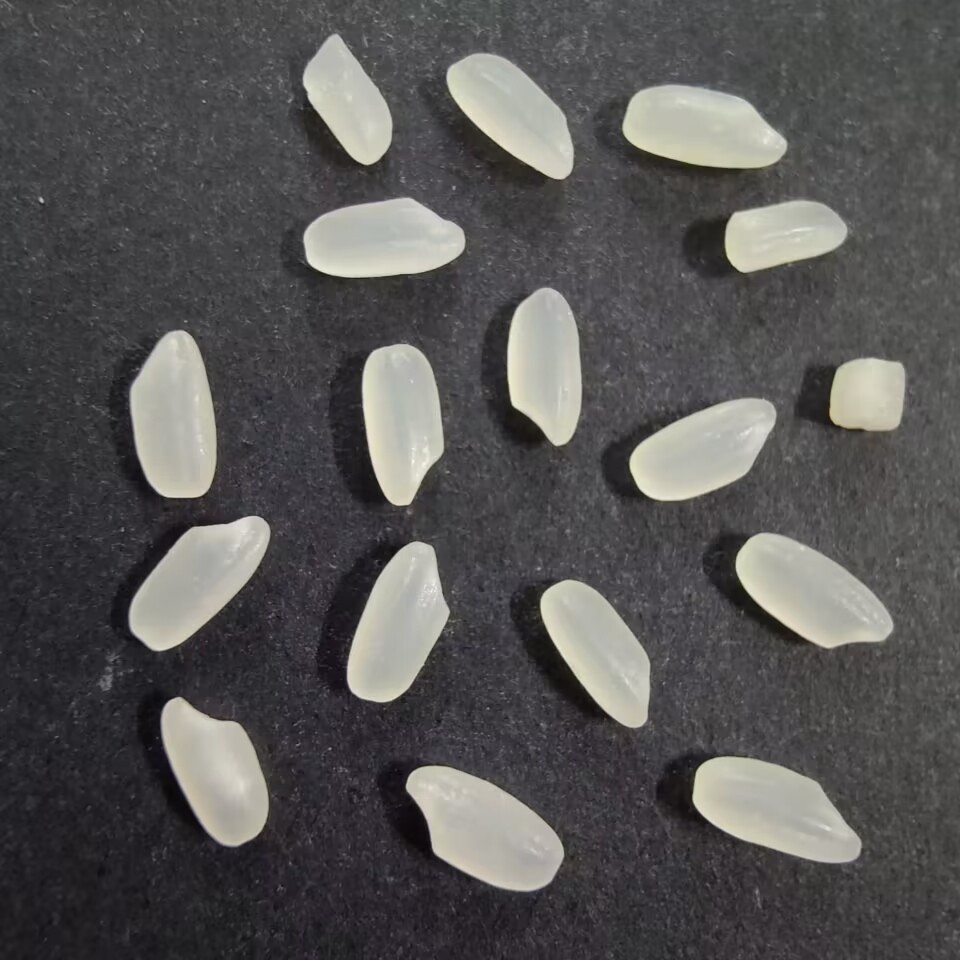broken: (296, 29, 398, 171), (720, 198, 851, 278), (827, 355, 909, 439)
rice: (397, 762, 566, 899), (125, 511, 275, 657), (732, 529, 897, 654), (689, 755, 865, 869), (153, 695, 275, 850), (341, 540, 454, 705), (537, 578, 655, 733), (444, 51, 576, 182), (126, 325, 220, 503), (626, 396, 781, 500), (620, 79, 789, 174), (356, 339, 445, 510), (299, 192, 470, 280), (500, 285, 586, 450)
